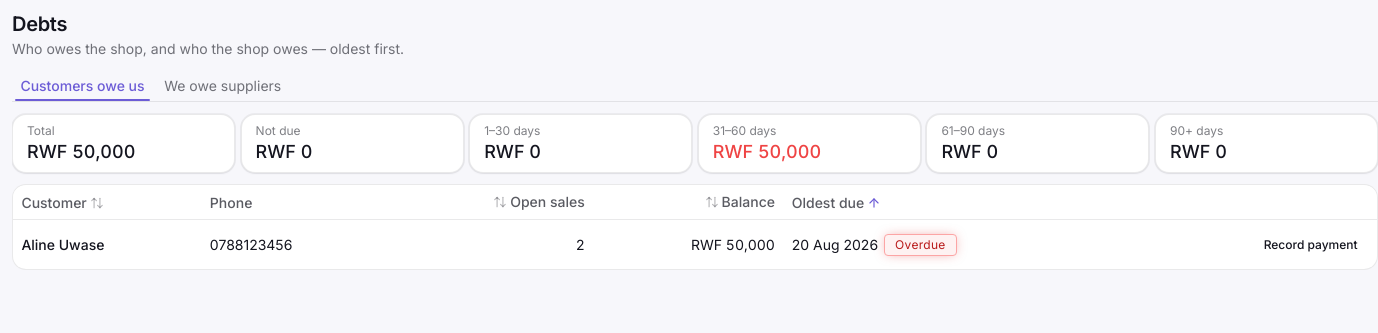
DebtsPageClient › lists supplier payables with the migration review flag
Click the tab "We owe suppliers": {"x": 223, "y": 86} [156, 70, 290, 101]
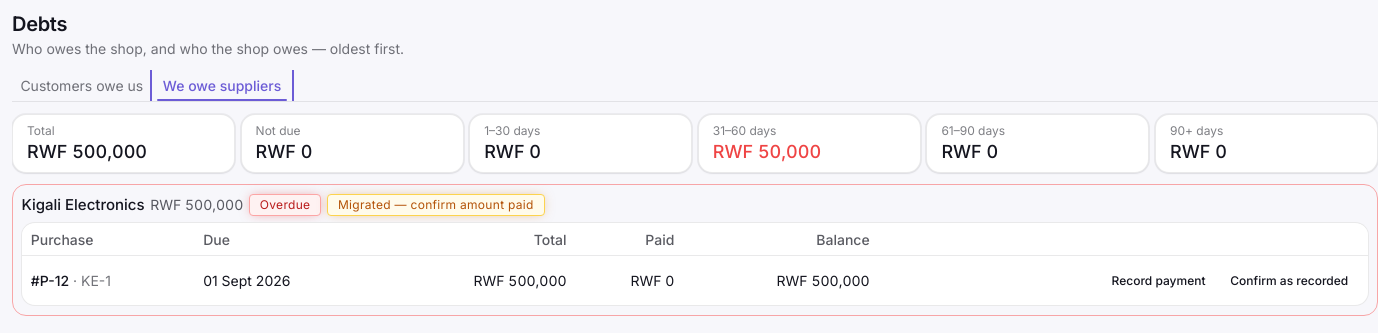
Result: the text "Kigali Electronics" is shown at [21, 193, 145, 217]
Result: the text "Migrated — confirm amount paid" is shown at [327, 194, 545, 216]
Result: the button "Confirm as recorded" is shown at [1219, 266, 1359, 296]
